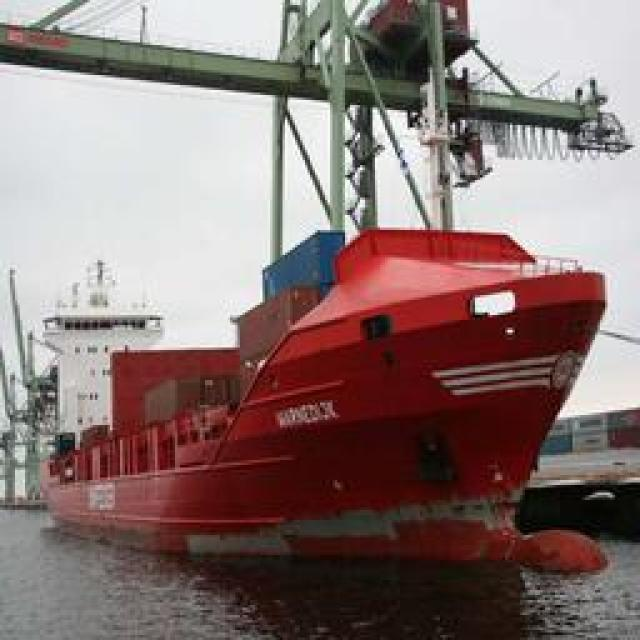ship2: (43, 228, 613, 578)
